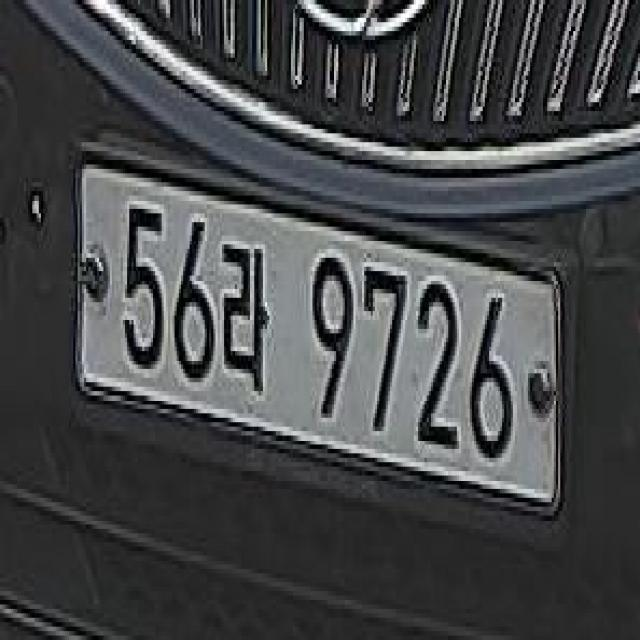illegal_plate: (73, 135, 566, 531)
